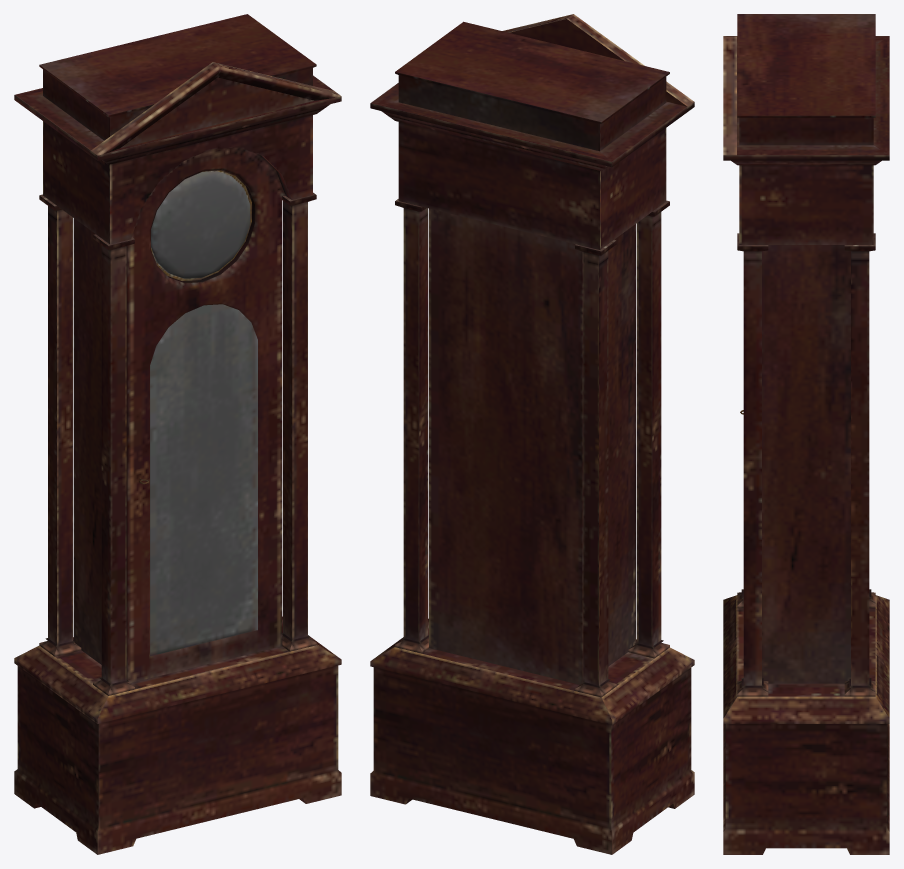
The model's file is 051_clock.fbx.
3 views of the same model, side by side, from view 1: azimuth 30°, elevation 25°; view 2: azimuth 150°, elevation 25°; view 3: azimuth 270°, elevation 25° (orthographic).
Parts seen in each view (by area): view 1: LOD_1_Group_0_Sub_1__sm31_051_Clock01A_A_Mat, LOD_1_Group_0_Sub_2__sm31_051_Clock01A_A_Mat__Env_Alpha; view 2: LOD_1_Group_0_Sub_1__sm31_051_Clock01A_A_Mat; view 3: LOD_1_Group_0_Sub_1__sm31_051_Clock01A_A_Mat.
Boxes of the visible parts, box(x1,y1,x2,y2) form: LOD_1_Group_0_Sub_1__sm31_051_Clock01A_A_Mat: box(14, 14, 341, 854); LOD_1_Group_0_Sub_2__sm31_051_Clock01A_A_Mat__Env_Alpha: box(150, 171, 257, 656); LOD_1_Group_0_Sub_1__sm31_051_Clock01A_A_Mat: box(370, 14, 694, 854); LOD_1_Group_0_Sub_1__sm31_051_Clock01A_A_Mat: box(723, 14, 889, 854).
Size of the model in its own units: 0.873 by 2.59 by 0.5155.
